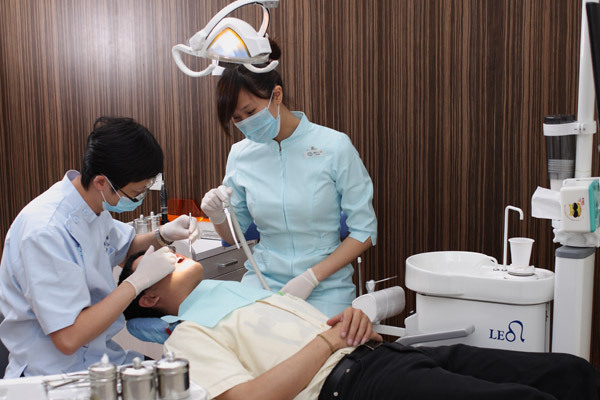mask: (234, 109, 280, 142), (101, 197, 145, 214)
